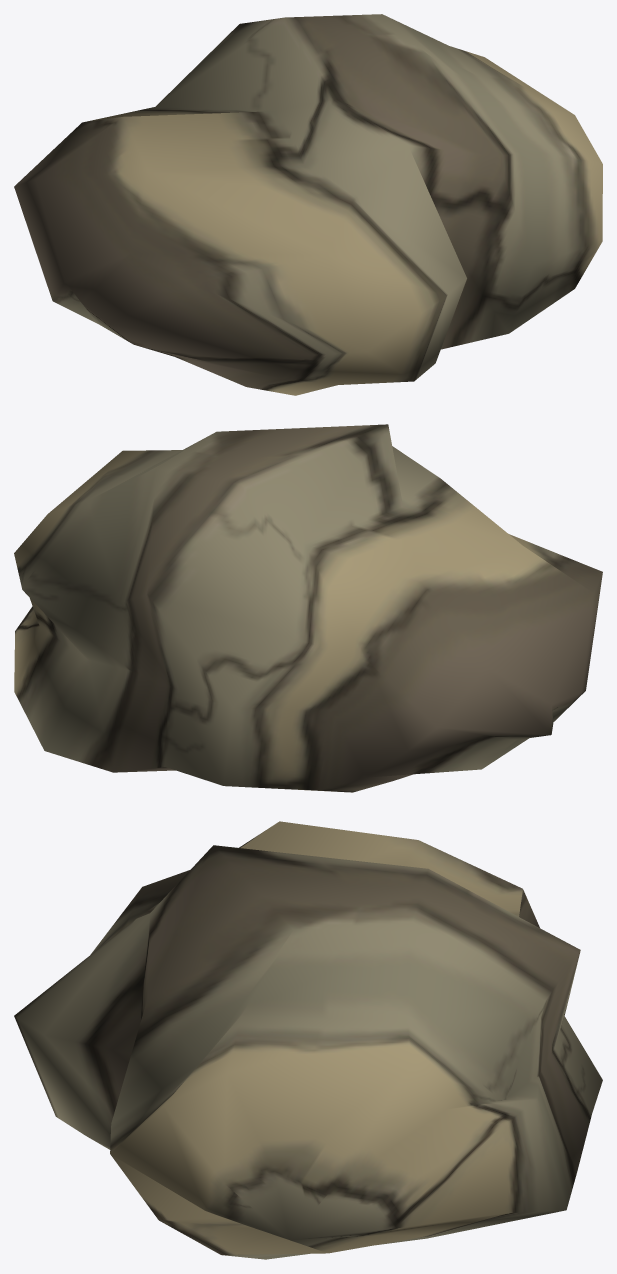
The model's file is rock10m.DAE.
The picture shows the model from 3 angles, top to bottom: view 1: azimuth 30°, elevation 25°; view 2: azimuth 150°, elevation 25°; view 3: azimuth 270°, elevation 25°; orthographic projection. The views are drawn at different scales.
Parts seen in each view (by area): view 1: Cylinder02; view 2: Cylinder02; view 3: Cylinder02.
Part boxes in pixels (box(x1,y1,x2,y2)): Cylinder02: box(14, 14, 602, 395); Cylinder02: box(14, 424, 602, 792); Cylinder02: box(14, 821, 602, 1259).
Size of the model in its own units: 29.36 by 16.19 by 25.97.
Materials: 1 (1 with a texture image).
